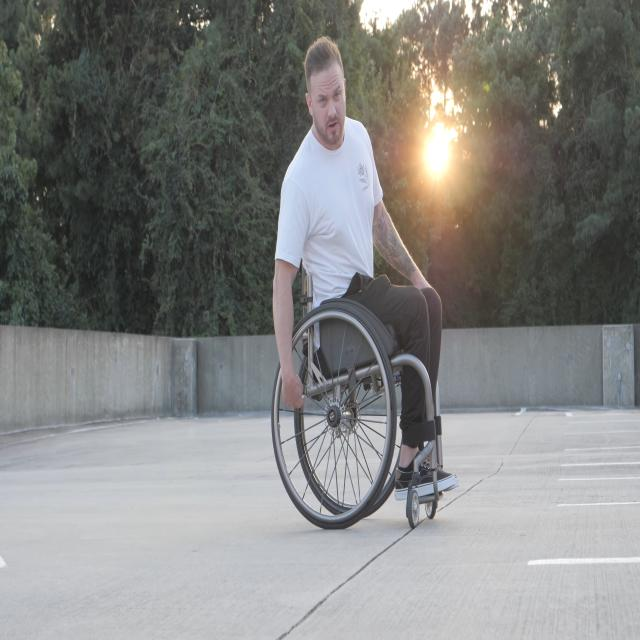wheelchairs: (273, 236, 446, 534)
